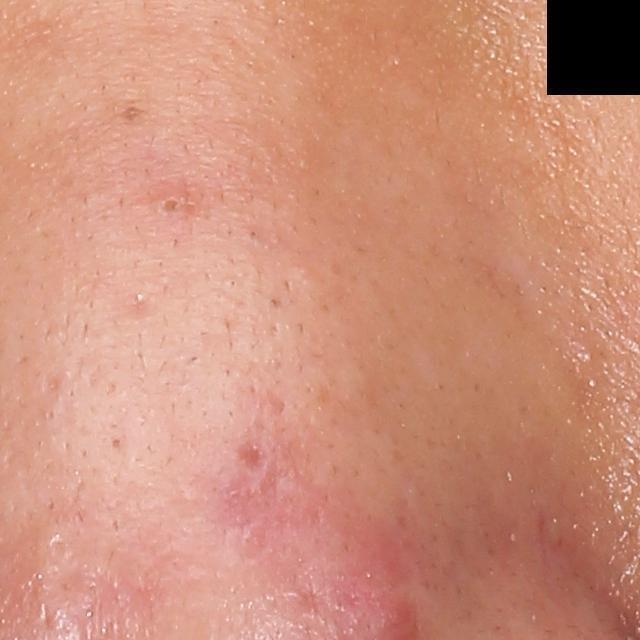atrophic_scar: (234, 438, 267, 476)
comedo: (157, 190, 182, 215), (576, 347, 599, 369), (129, 287, 146, 304)
